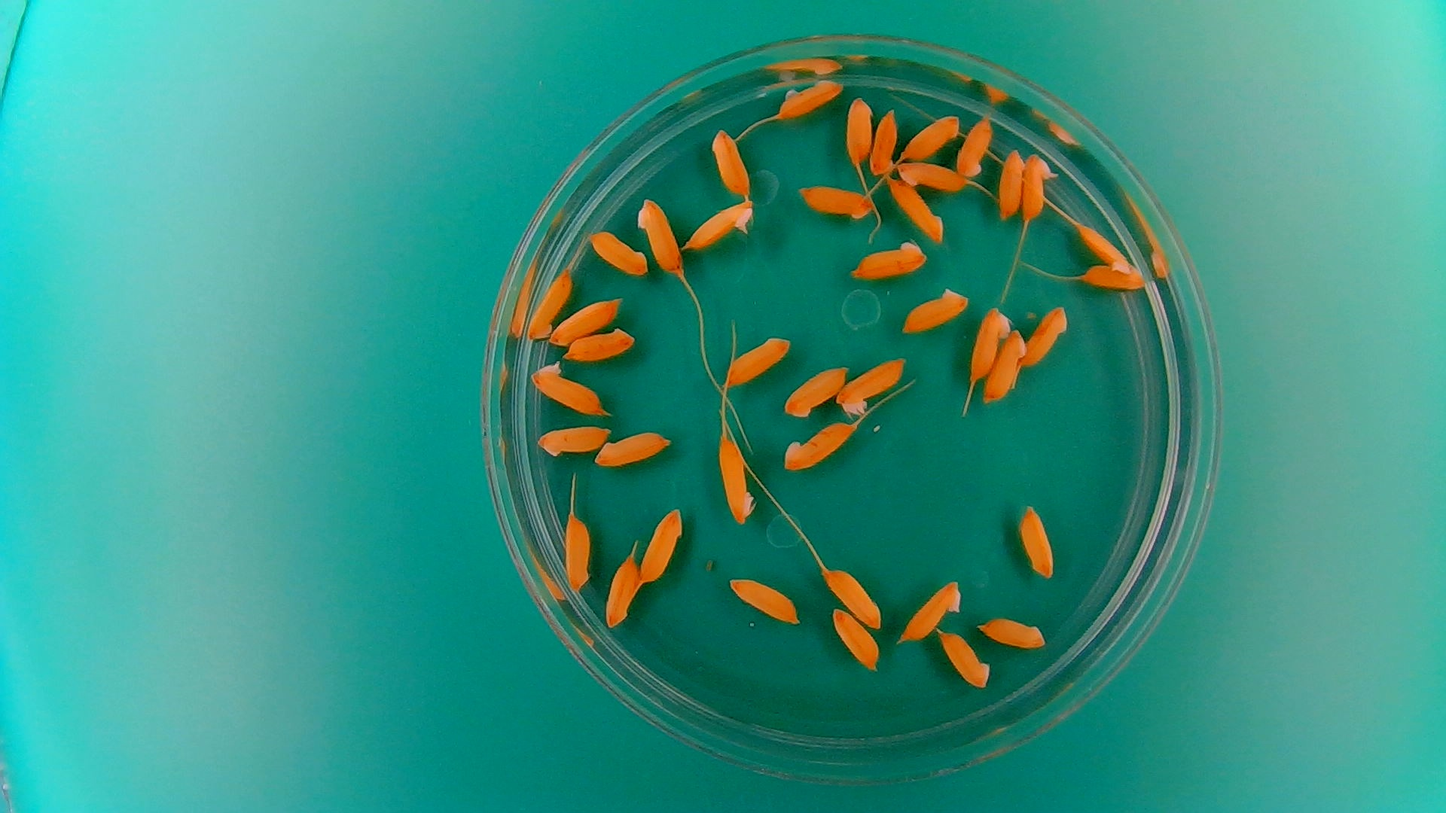no: (528, 359, 609, 417), (896, 577, 963, 646), (835, 355, 908, 418), (884, 174, 944, 245), (779, 419, 858, 472), (547, 293, 625, 346), (727, 575, 802, 628), (823, 564, 884, 629), (635, 196, 684, 276), (827, 604, 882, 674), (984, 329, 1034, 406), (781, 363, 849, 419), (717, 434, 757, 528), (724, 333, 792, 388), (638, 505, 684, 586), (899, 285, 971, 334), (936, 627, 991, 690), (795, 180, 877, 222), (526, 267, 572, 340), (849, 239, 929, 280), (898, 112, 963, 162), (969, 305, 1012, 380), (773, 76, 846, 120), (602, 550, 641, 631), (1022, 303, 1069, 369), (709, 124, 752, 196), (593, 429, 672, 468), (1017, 503, 1057, 580), (587, 228, 648, 276), (562, 325, 637, 362), (535, 422, 612, 458), (975, 614, 1049, 651), (1077, 222, 1133, 269), (955, 113, 994, 178), (563, 512, 593, 595), (843, 92, 876, 166), (1079, 253, 1142, 291), (896, 160, 966, 194), (867, 105, 900, 177), (996, 147, 1025, 221)
yes: (682, 197, 757, 252), (1021, 152, 1063, 222)
